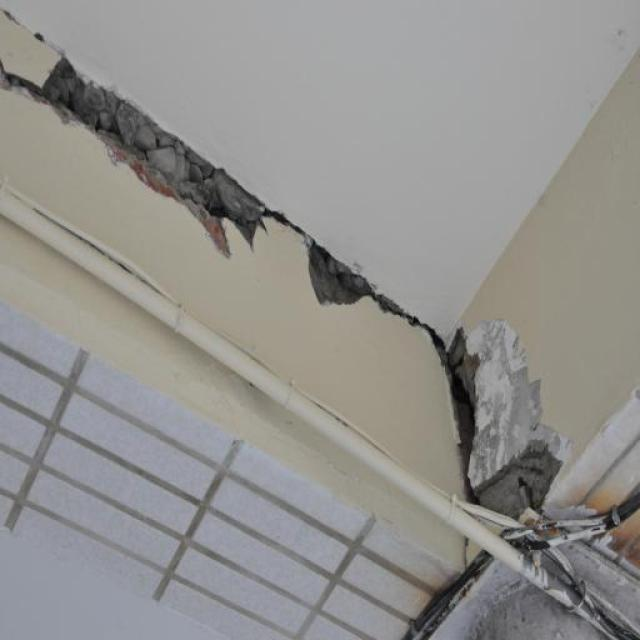D10: (0, 56, 560, 515)
